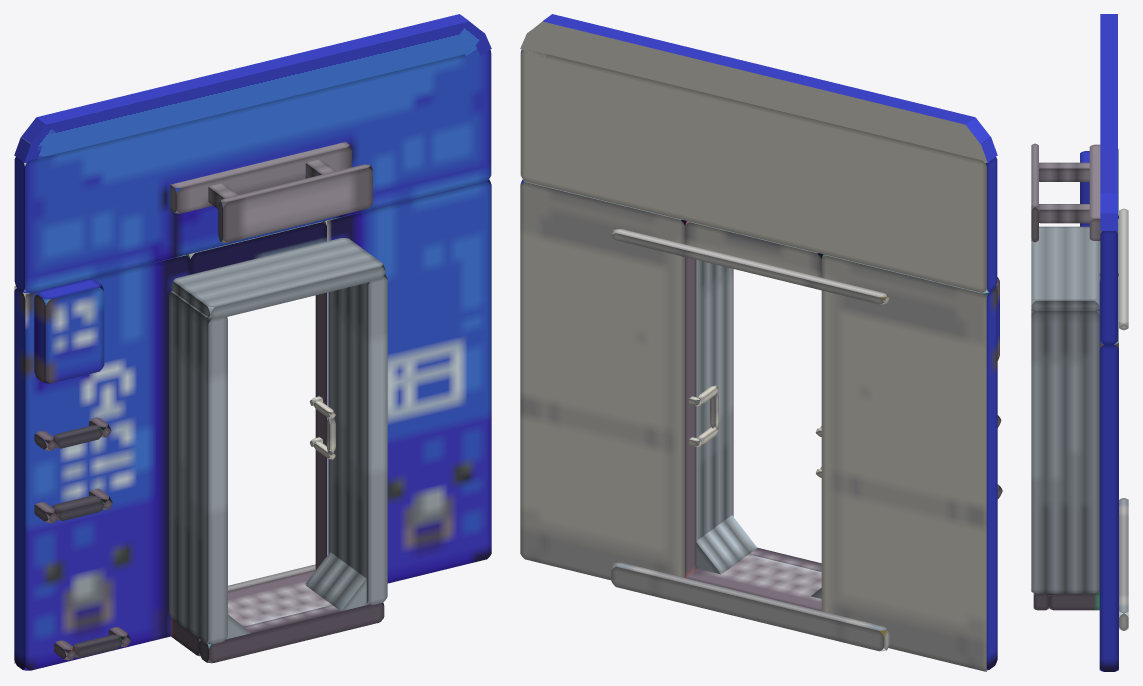
The model's file is end_face_sliding_original_25k_2.obj.
3 views of the same model, side by side, from view 1: azimuth 30°, elevation 25°; view 2: azimuth 150°, elevation 25°; view 3: azimuth 270°, elevation 25° (orthographic). The views are drawn at different scales.
Visible parts, largest first — view 1: cube, cube_selection, cube_selection_selection; view 2: cube, cube_selection, cube_selection_selection; view 3: cube_selection, cube, cube_selection_selection.
Part boxes in pixels (x1,y1,x2,y2): cube: (14,50,491,670); cube_selection: (169,142,387,644); cube_selection_selection: (14,14,491,165); cube: (520,50,1002,671); cube_selection: (611,229,889,651); cube_selection_selection: (520,14,997,163); cube_selection: (1031,143,1128,630); cube: (1033,149,1118,671); cube_selection_selection: (1100,14,1117,230).
Bounding box in the file's own units: 3 × 3.32 × 0.625.
